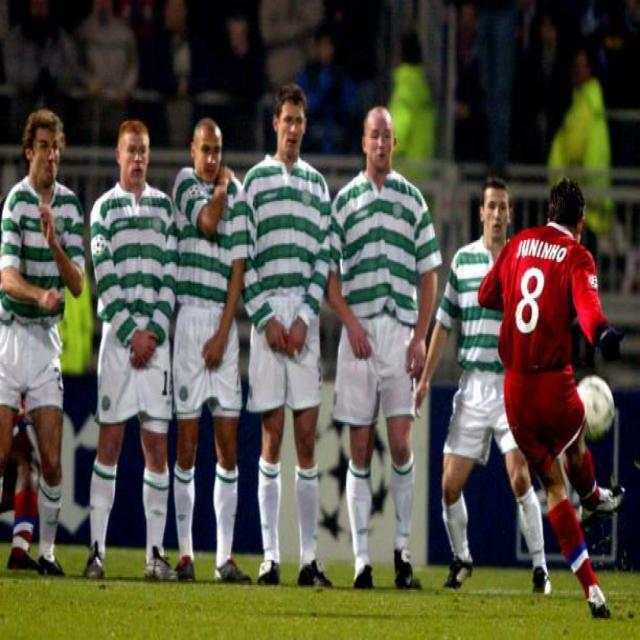ball: (575, 372, 616, 438)
player: (499, 176, 630, 627), (325, 105, 436, 588), (239, 81, 331, 587), (427, 188, 543, 585), (84, 121, 181, 587), (0, 113, 86, 576), (177, 113, 241, 587)
